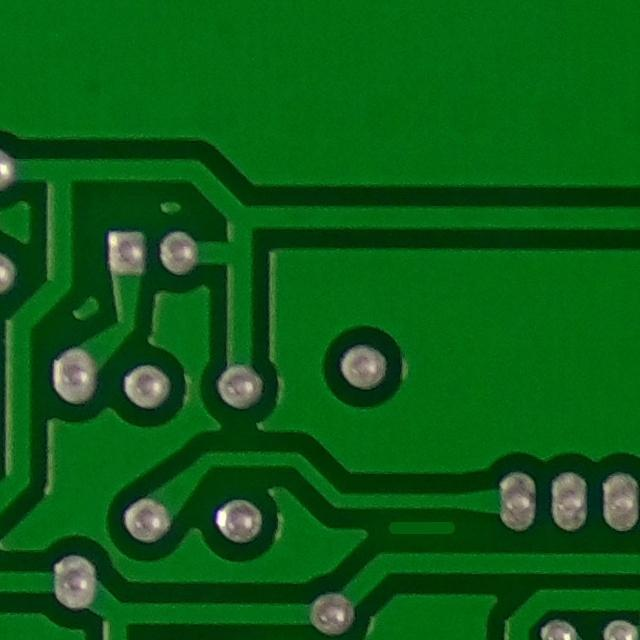spurious_copper: (373, 510, 466, 550)
